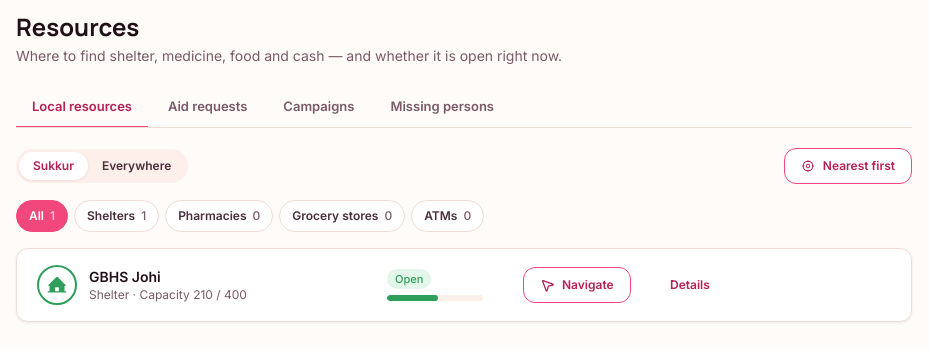
Scenario: Local resources — what is listed › says so when a region has nothing listed, and when a kind is empty
Expected: the text "GBHS Johi" is shown, [89,268,161,285]
Click the button "ATMs 0": (448, 216) [411,200,484,232]
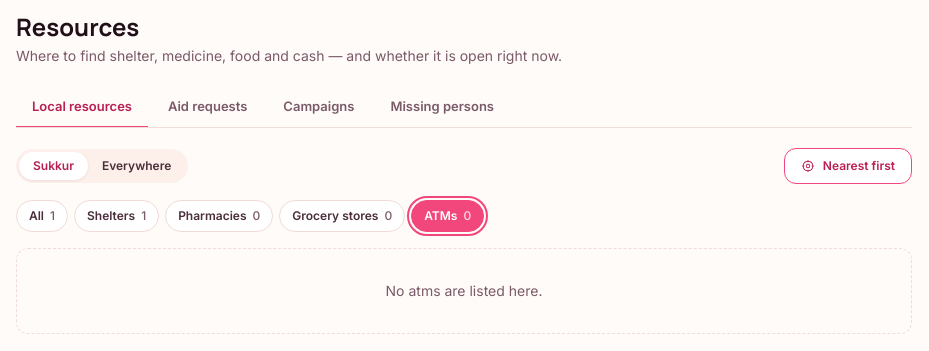
Now the text "No atms are listed here." is shown, box [16,248,912,334]
